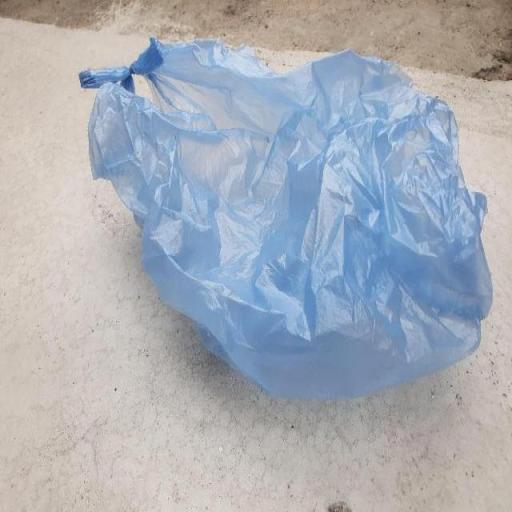plastic-bag: (81, 34, 495, 398)
